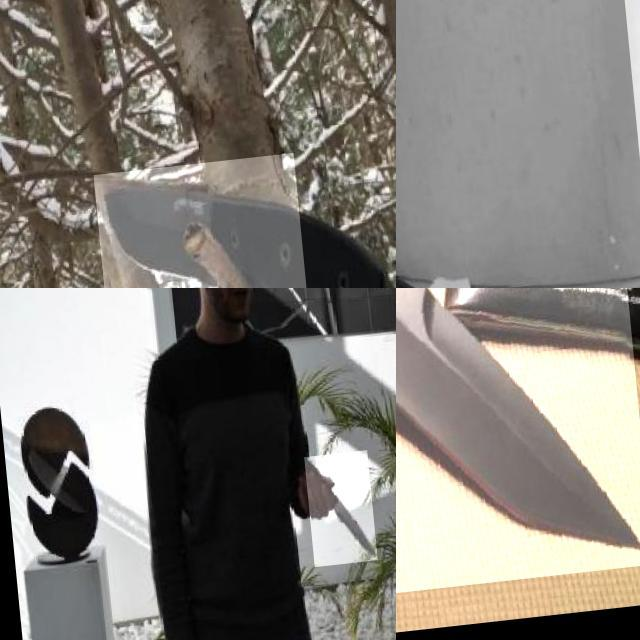-: (396, 288, 640, 603), (88, 161, 301, 288), (298, 460, 369, 574)
